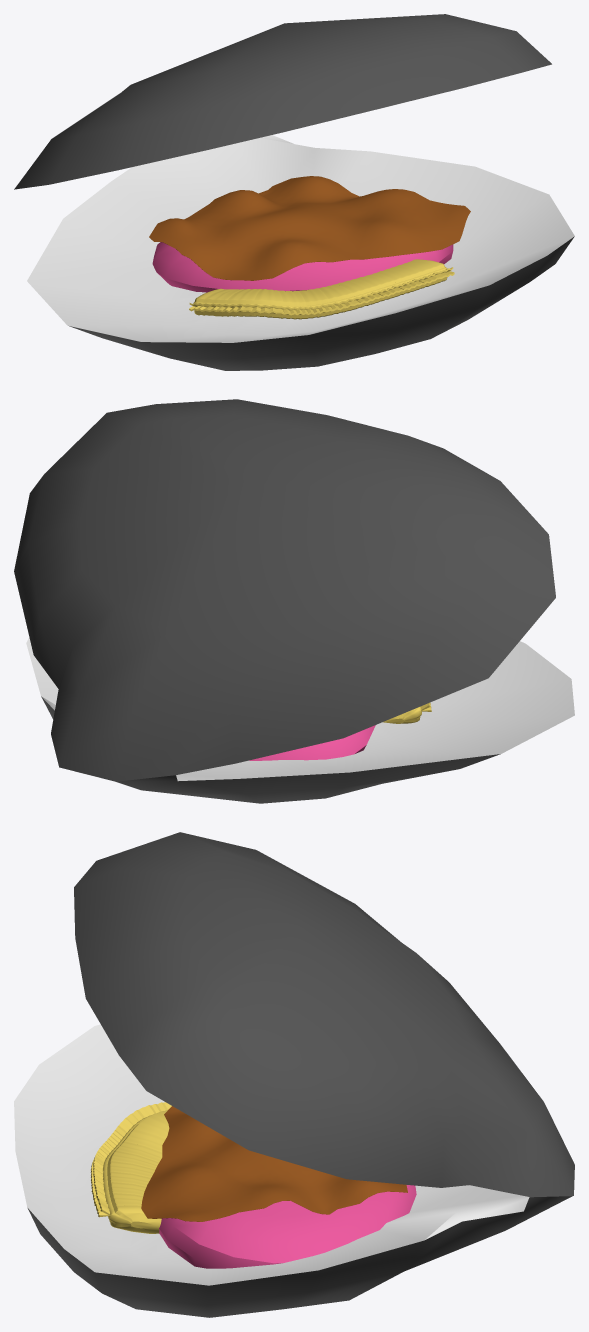
The model's file is ClamExportVrs.fbx.
3 renders of one model, top to bottom at view 1: azimuth 30°, elevation 25°; view 2: azimuth 150°, elevation 25°; view 3: azimuth 270°, elevation 25°, orthographic. The views are drawn at different scales.
Visible parts, largest first — view 1: Shell, Shell.001, Frill, Flap, Bud; view 2: Shell.001, Shell, Bud; view 3: Shell.001, Shell, Frill, Bud, Flap.
Boxes of the visible parts, x1,y1,x2,y2 form: Shell: [27, 135, 574, 370]; Shell.001: [14, 14, 551, 189]; Frill: [149, 176, 470, 280]; Flap: [189, 259, 454, 319]; Bud: [152, 242, 453, 292]; Shell.001: [14, 399, 555, 781]; Shell: [26, 637, 574, 803]; Bud: [249, 725, 375, 760]; Shell.001: [74, 832, 574, 1197]; Shell: [14, 1024, 572, 1317]; Frill: [141, 1106, 407, 1221]; Bud: [159, 1185, 416, 1268]; Flap: [90, 1102, 171, 1233].
Bounding box in the file's own units: 267 × 156 × 224.
